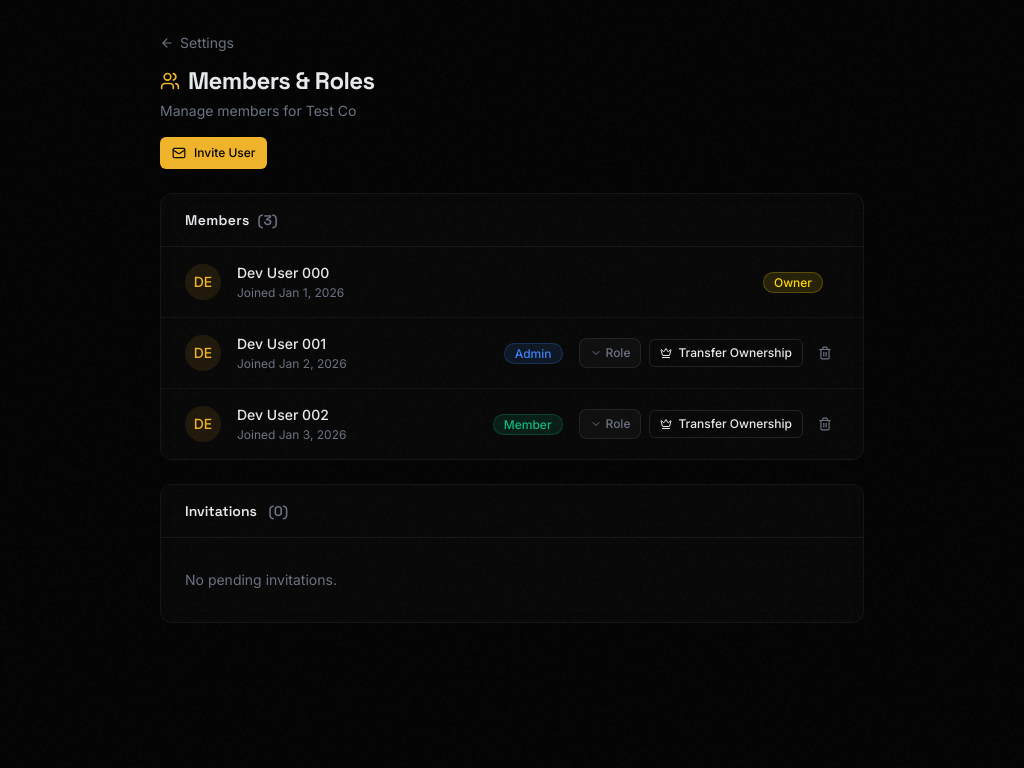
Scenario: Ownership Transfer UI › error handling › shows an in-modal error message on 404 API failure
Expected: the text "Dev User 001" is shown, [237, 335, 326, 352]
Step 1. Click the button "Transfer Ownership" in the row of "Dev User 001" → (726, 353), box [650, 339, 803, 367]
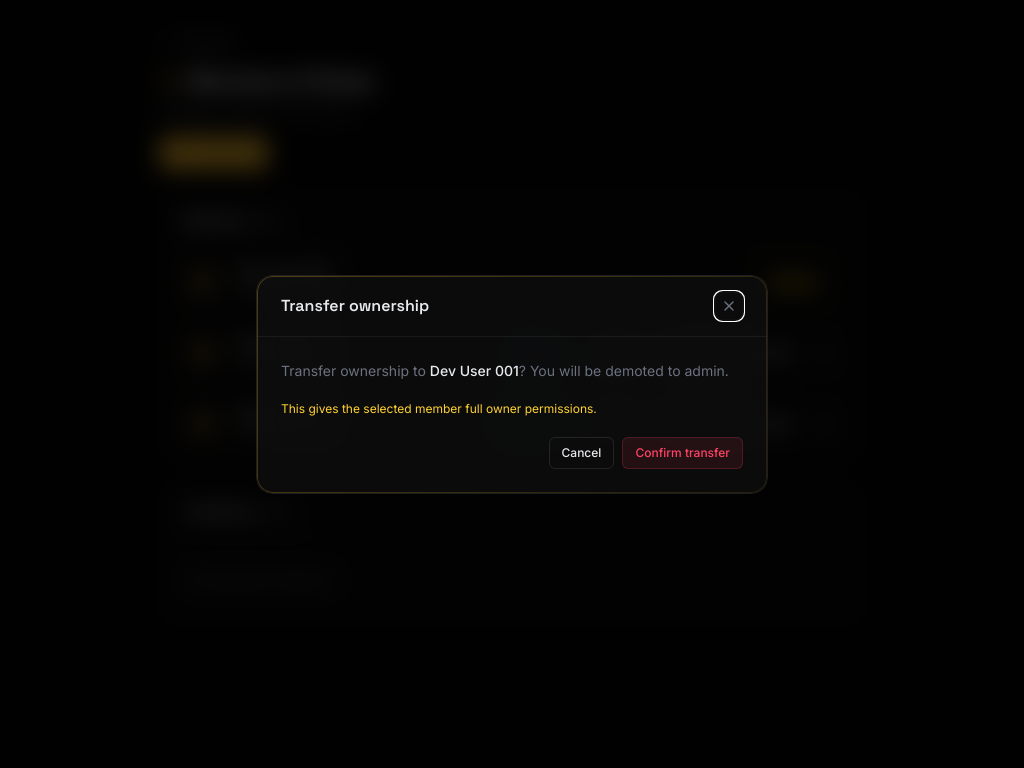
Result: the heading "Transfer ownership" is shown at [281, 294, 429, 318]
Step 2. Click the button "Confirm transfer" → (683, 452), box [622, 436, 743, 468]
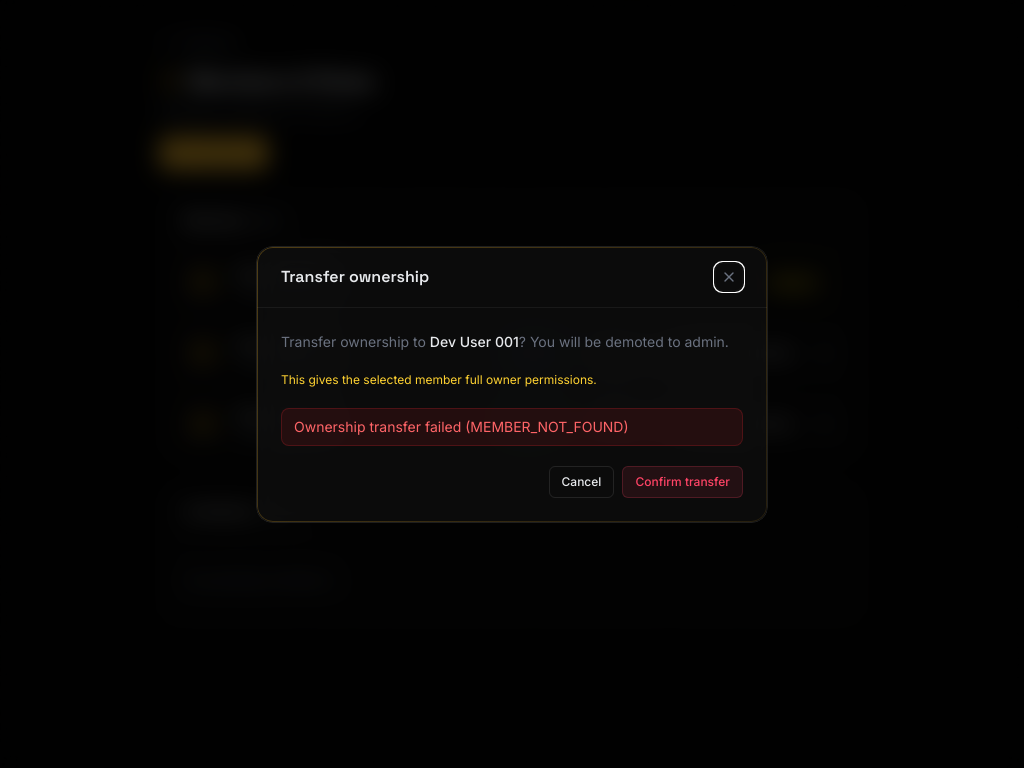
Result: the heading "Transfer ownership" is shown at [281, 264, 429, 288]
Result: the text "Ownership transfer failed (MEMBER_NOT_FOUND)" is shown at [281, 408, 743, 446]
